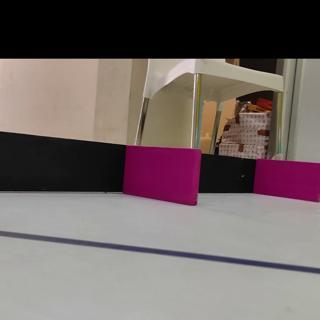xparking: (129, 150, 198, 204), (261, 161, 320, 200)
